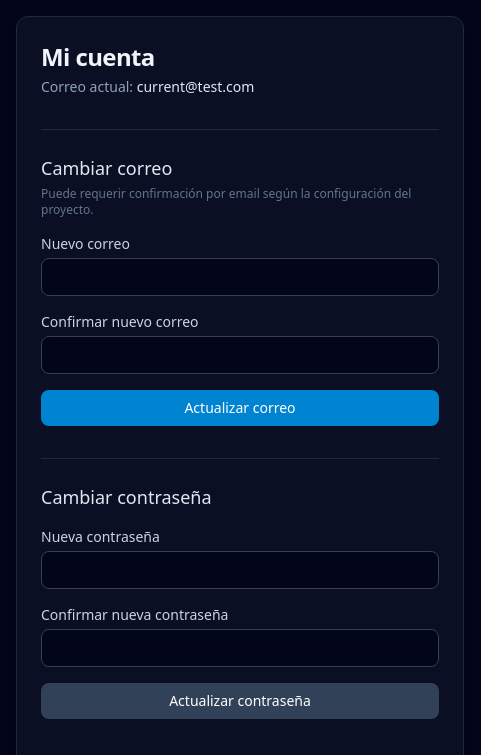
Test: ProfilePage › P4: error de API en contraseña muestra mensaje
Expected: the heading "Mi cuenta" is shown, top-left (41, 40), bottom-right (155, 73)
Type "secret12" into the password field labelled "Nueva contraseña" at (240, 570), box top-left (41, 551), bottom-right (439, 589)
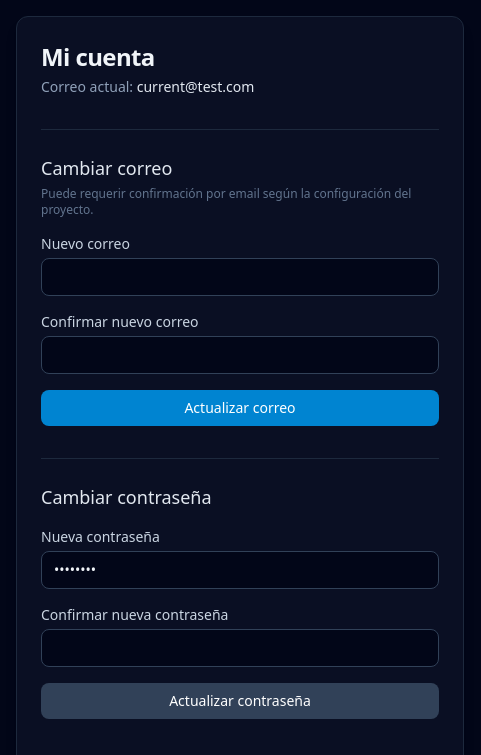
Type "secret12" into the password field labelled "Confirmar nueva contraseña" at (240, 648), box top-left (41, 629), bottom-right (439, 667)
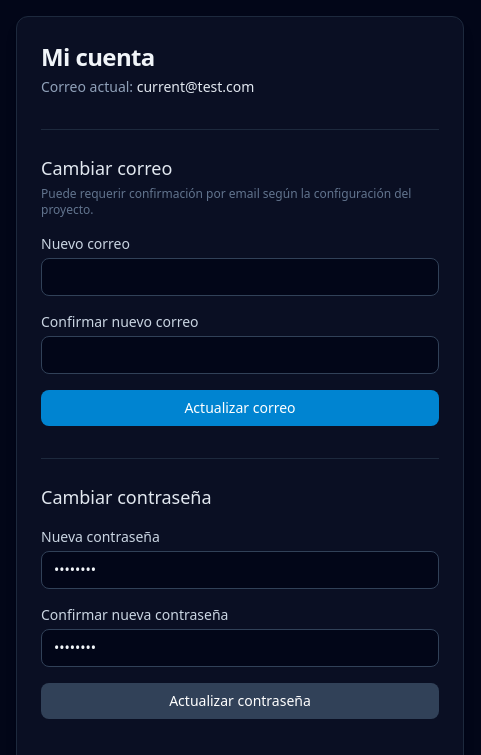
Click the button with test id "profile-submit-password" at (240, 701), box top-left (41, 683), bottom-right (439, 719)
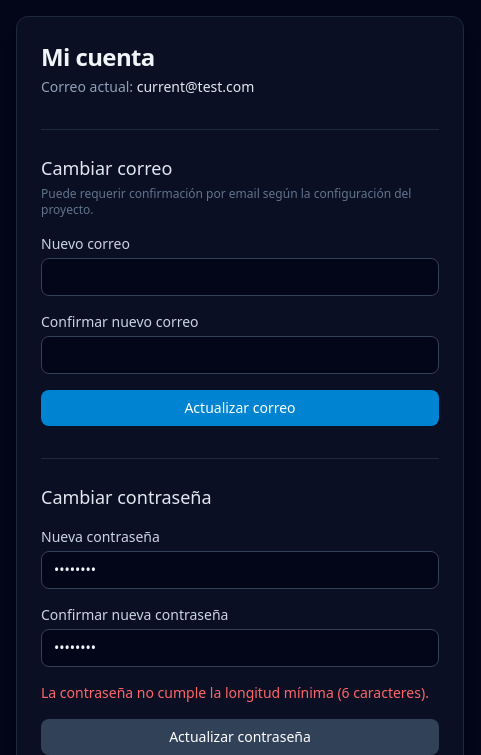
Result: the text "La contraseña no cumple la longitud mínima (6 caracteres)." is shown at top-left (41, 683), bottom-right (439, 703)
